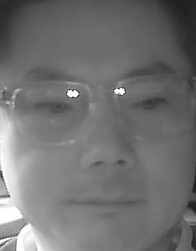glass: (10, 82, 96, 146), (113, 73, 193, 139)
mouth: (62, 188, 141, 223)
